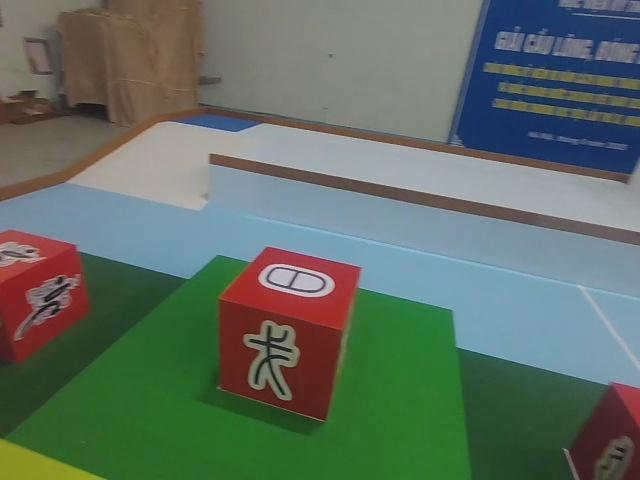R1: (0, 225, 91, 364)
R2 Fake: (216, 245, 361, 421)
R2 Real: (563, 377, 640, 480)
